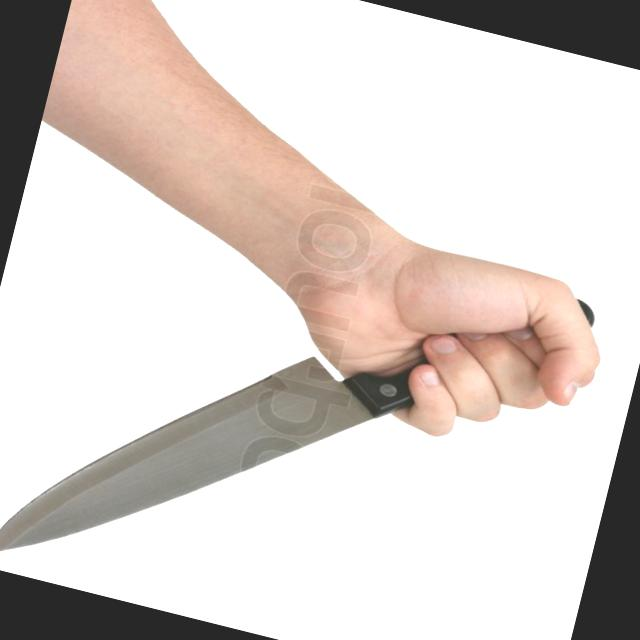knife: (0, 205, 533, 639)
